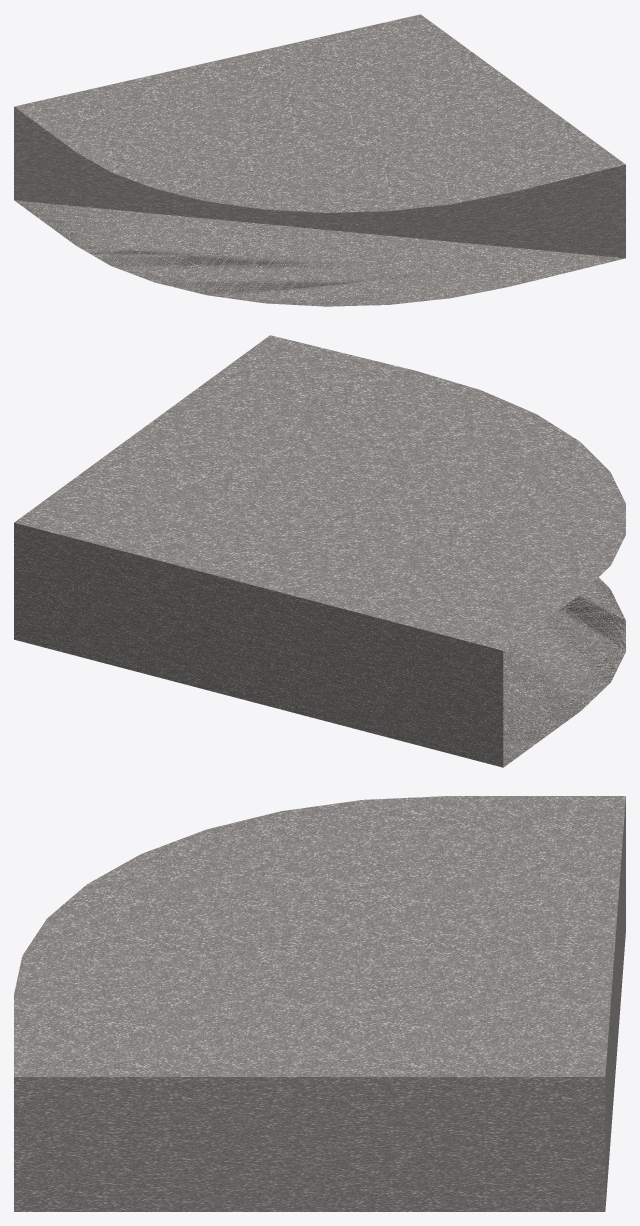
File: Gehweg_rund_aussen.fbx
3 views of the same model, one above another, from view 1: azimuth 30°, elevation 25°; view 2: azimuth 150°, elevation 25°; view 3: azimuth 270°, elevation 25° (orthographic). The views are drawn at different scales.
Parts seen in each view (by area): view 1: 1.0 main walk; view 2: 1.0 main walk; view 3: 1.0 main walk.
Boxes of the visible parts, x1,y1,x2,y2 form: 1.0 main walk: (14, 14, 625, 306); 1.0 main walk: (14, 335, 625, 767); 1.0 main walk: (14, 796, 625, 1211).
Size of the model in its own units: 300 by 276 by 67.26.
1 material, 1 textured.
